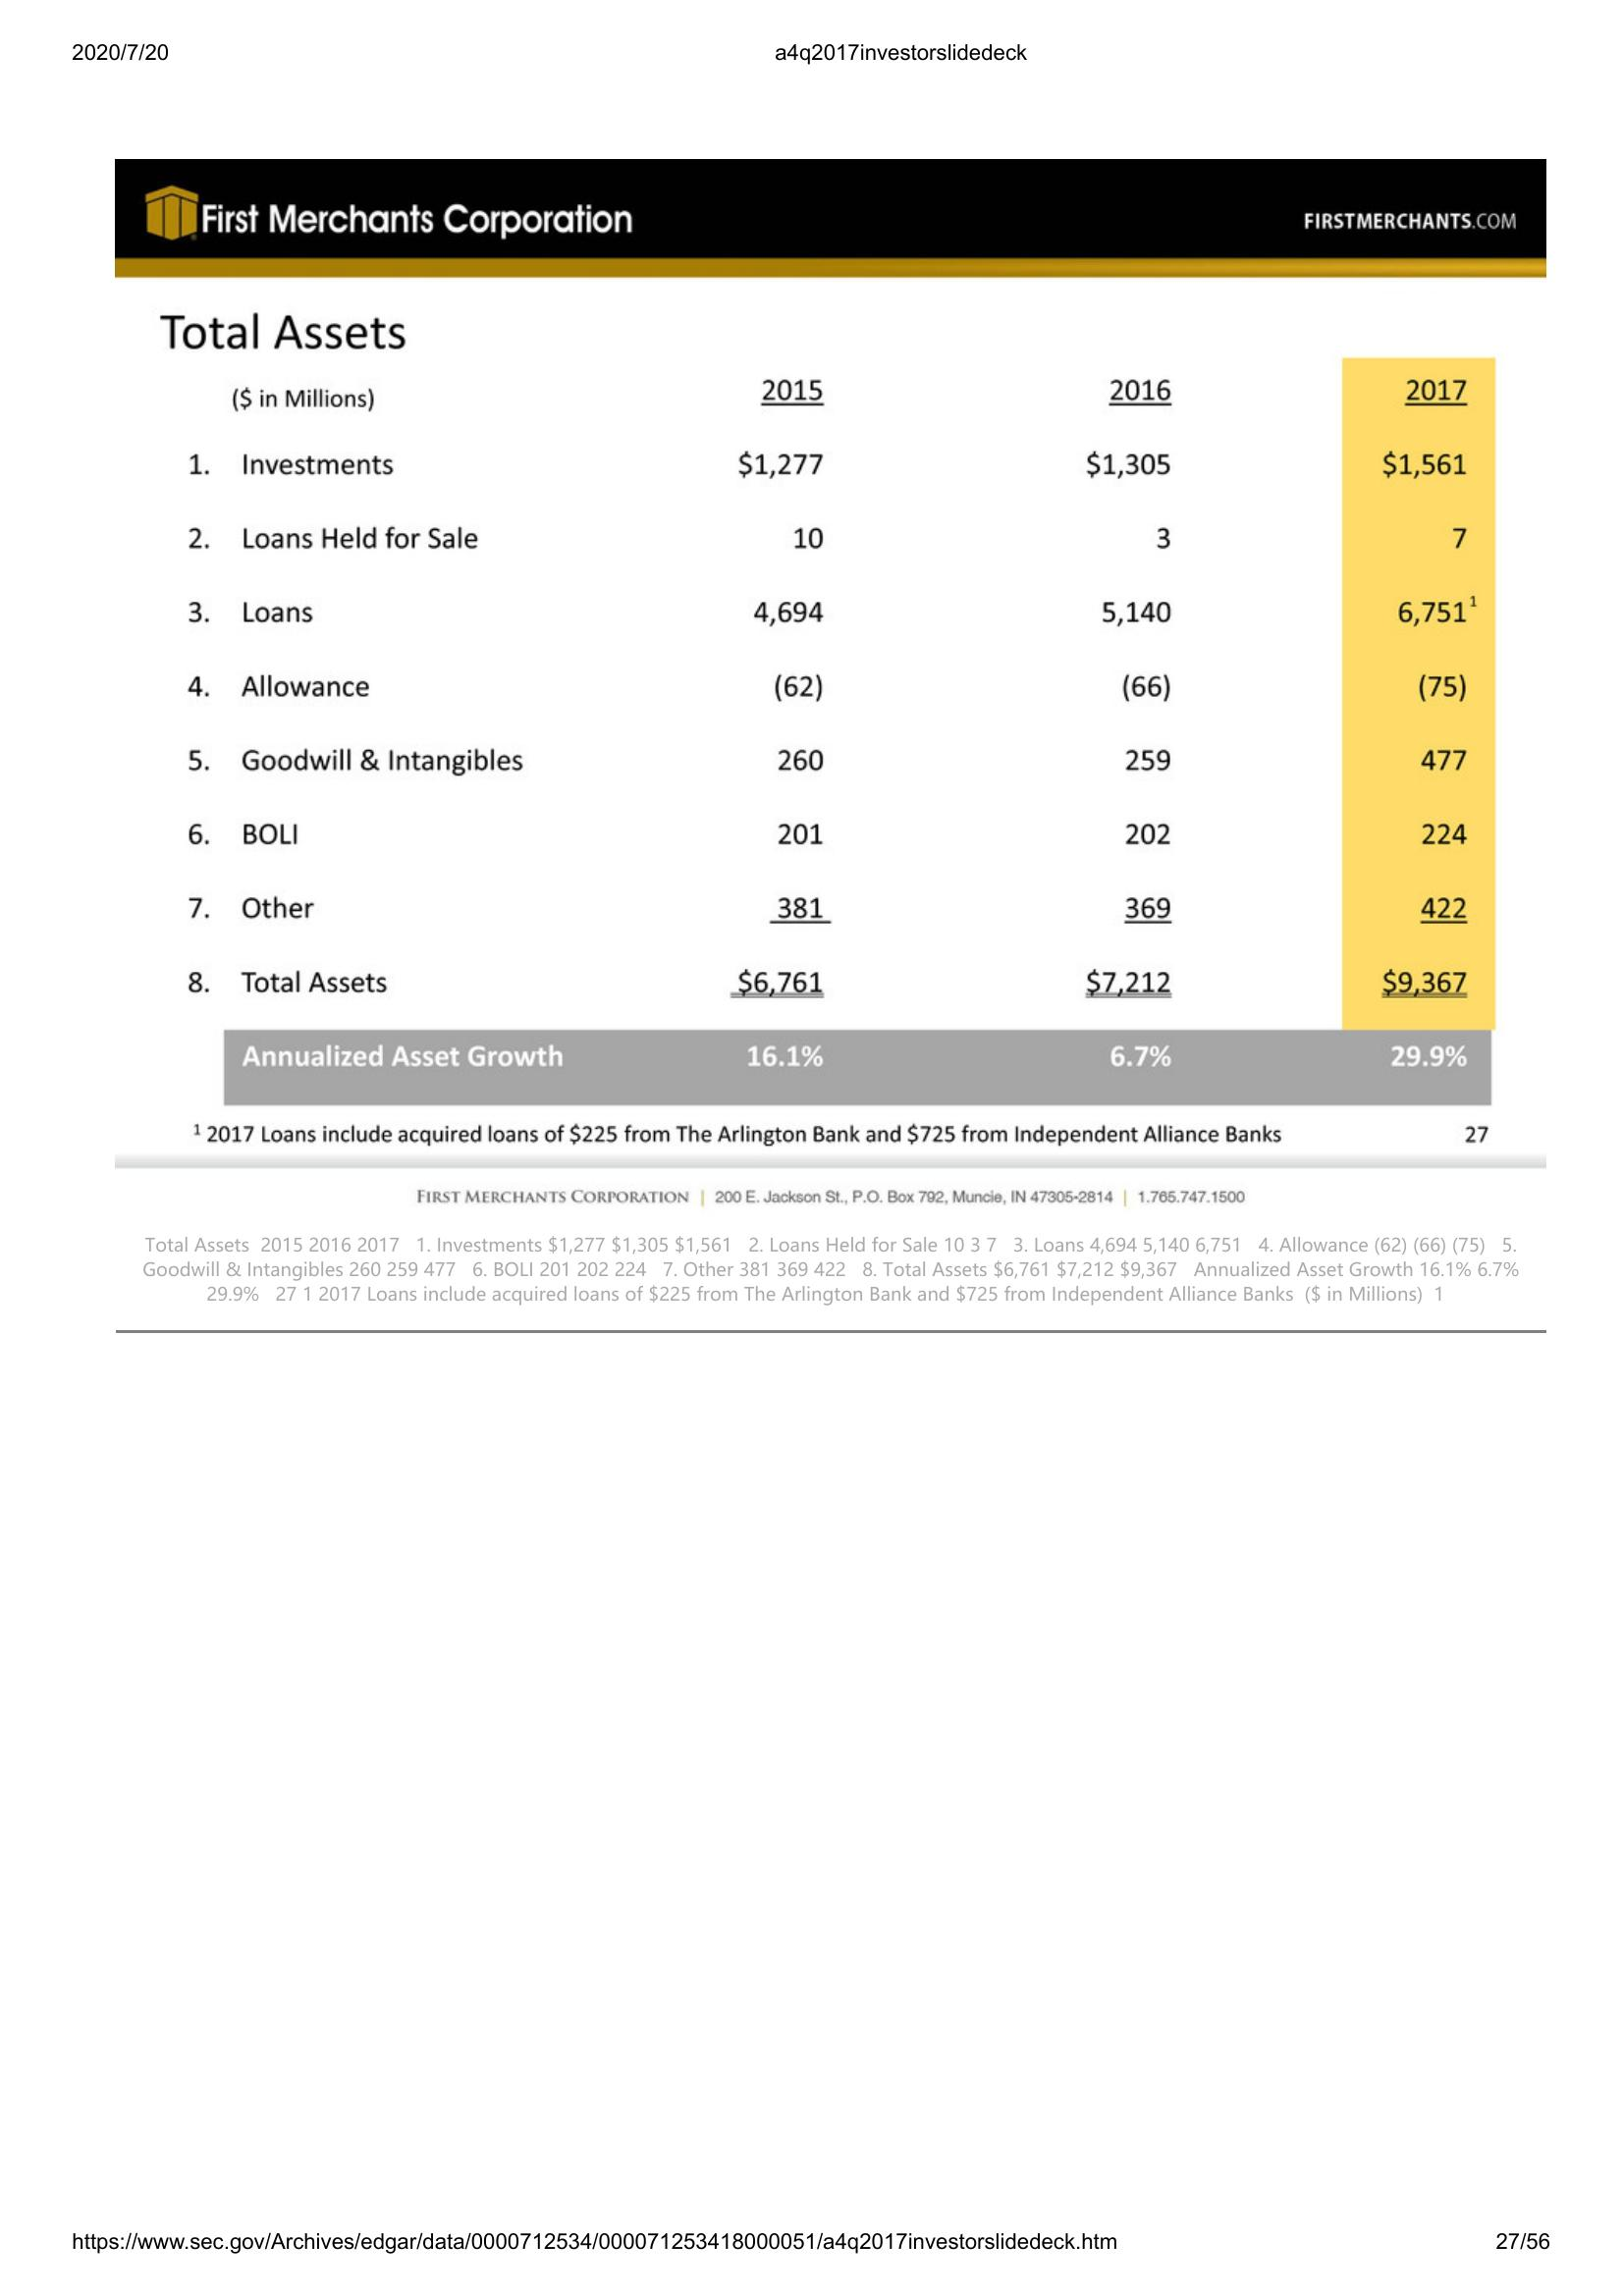table: (148, 305, 1495, 1113)
